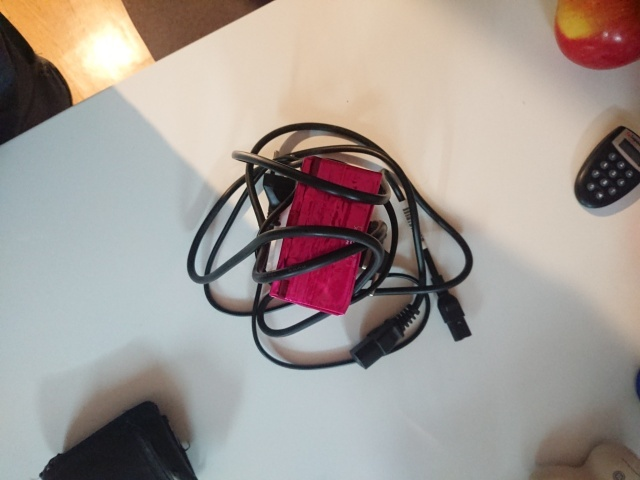Barcaffe Classic Original 225g: (267, 153, 385, 317)
